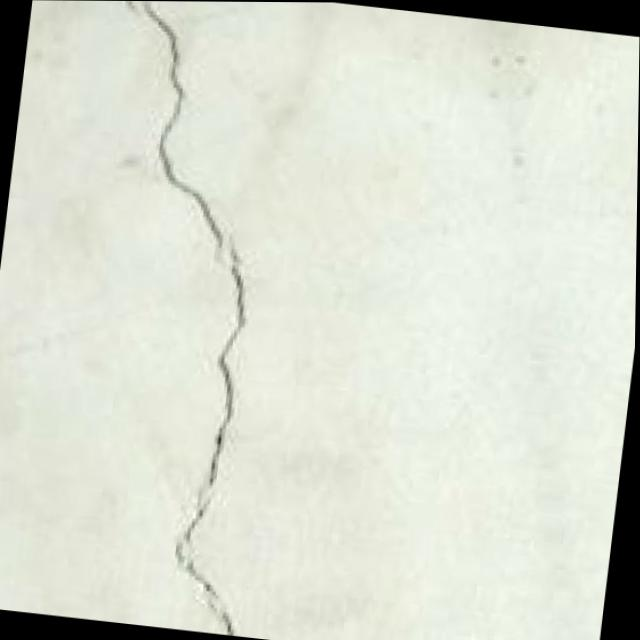Crack: (41, 0, 383, 640)
